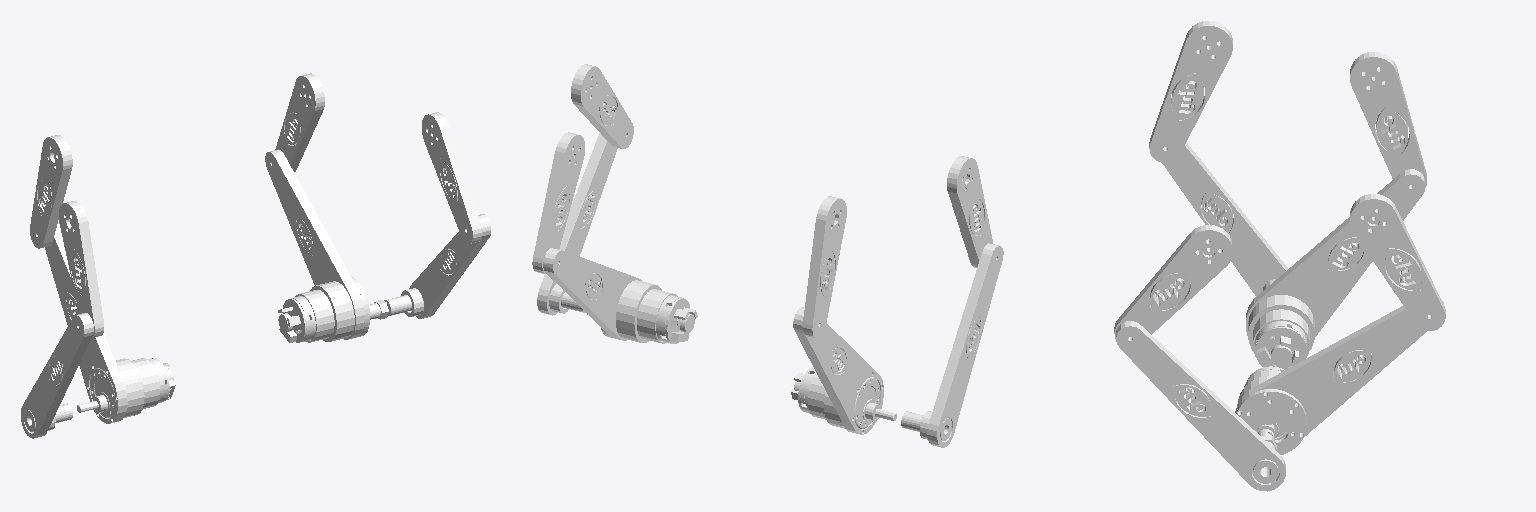
URDF robot description (all1):
<?xml version="1.0" encoding="utf-8"?>
<!-- This URDF was automatically created by SolidWorks to URDF Exporter! Originally created by Stephen Brawner (brawner@gmail.com) 
     Commit Version: 1.6.0-4-g7f85cfe  Build Version: 1.6.7995.38578
     For more information, please see http://wiki.ros.org/sw_urdf_exporter -->
<robot
  name="all1">
  <link
    name="base">
    <inertial>
      <origin
        xyz="-0.0764886966078708 -0.0455032449425661 0.0298113445623209"
        rpy="0 0 0" />
      <mass
        value="1.2267529732857" />
      <inertia
        ixx="0.00222432659479672"
        ixy="7.28354013929661E-06"
        ixz="1.46419626981074E-06"
        iyy="0.00342353739853937"
        iyz="2.34946049676221E-05"
        izz="0.00505018652038384" />
    </inertial>
    <visual>
      <origin
        xyz="0 0 0"
        rpy="0 0 0" />
      <geometry>
        <mesh
          filename="../meshes/base.STL" />
      </geometry>
      <material
        name="">
        <color
          rgba="0.8 0.8 0.8 1" />
      </material>
    </visual>
    <collision>
      <origin
        xyz="0 0 0"
        rpy="0 0 0" />
      <geometry>
        <mesh
          filename="../meshes/base.STL" />
      </geometry>
    </collision>
  </link>
  <link
    name="RightBack_link">
    <inertial>
      <origin
        xyz="0.00523671302162132 -0.00718558890644735 -0.0773768709244141"
        rpy="0 0 0" />
      <mass
        value="0.0440115405041705" />
      <inertia
        ixx="5.59990223771643E-05"
        ixy="3.4110385047923E-07"
        ixz="-4.52388039456716E-07"
        iyy="3.12201742719203E-05"
        iyz="1.43967108895873E-05"
        izz="2.59802786532203E-05" />
    </inertial>
    <visual>
      <origin
        xyz="0 0 0"
        rpy="0 0 0" />
      <geometry>
        <mesh
          filename="../meshes/RightBack_link.STL" />
      </geometry>
      <material
        name="">
        <color
          rgba="1 1 1 1" />
      </material>
    </visual>
    <collision>
      <origin
        xyz="0 0 0"
        rpy="0 0 0" />
      <geometry>
        <mesh
          filename="../meshes/RightBack_link.STL" />
      </geometry>
    </collision>
  </link>
  <joint
    name="RightBack_joint"
    type="revolute">
    <origin
      xyz="0.0688999999999906 -0.0806780584041777 0.0329999999999921"
      rpy="0 0 0" />
    <parent
      link="base" />
    <child
      link="RightBack_link" />
    <axis
      xyz="-1 0 0" />
    <limit
      lower="-3.14"
      upper="3.14"
      effort="100"
      velocity="1" />
  </joint>
  <link
    name="RightFront_link">
    <inertial>
      <origin
        xyz="-0.0158846396710652 -0.038678326798839 -0.113706375052538"
        rpy="0 0 0" />
      <mass
        value="0.104712553816365" />
      <inertia
        ixx="8.54971785570935E-05"
        ixy="-3.62925723688322E-06"
        ixz="-2.54346309155512E-06"
        iyy="4.97870154838629E-05"
        iyz="-2.2099480696532E-05"
        izz="5.7864789265181E-05" />
    </inertial>
    <visual>
      <origin
        xyz="0 0 0"
        rpy="0 0 0" />
      <geometry>
        <mesh
          filename="../meshes/RightFront_link.STL" />
      </geometry>
      <material
        name="">
        <color
          rgba="1 1 1 1" />
      </material>
    </visual>
    <collision>
      <origin
        xyz="0 0 0"
        rpy="0 0 0" />
      <geometry>
        <mesh
          filename="../meshes/RightFront_link.STL" />
      </geometry>
    </collision>
  </link>
  <joint
    name="RightFront_joint"
    type="revolute">
    <origin
      xyz="0.0253999999999908 0.0224684550366046 0.0329999999999916"
      rpy="0 0 0" />
    <parent
      link="base" />
    <child
      link="RightFront_link" />
    <axis
      xyz="1 0 0" />
    <limit
      lower="-3.14"
      upper="3.14"
      effort="100"
      velocity="1" />
  </joint>
  <link
    name="RightWheel_link">
    <inertial>
      <origin
        xyz="0.000940071320065794 4.74311855361287E-07 -2.86421212869481E-06"
        rpy="0 0 0" />
      <mass
        value="0.0269928545535181" />
      <inertia
        ixx="2.01971038426994E-05"
        ixy="-3.58826201707999E-10"
        ixz="4.89650768445249E-10"
        iyy="1.19536318518432E-05"
        iyz="-5.23236893151677E-09"
        izz="1.19559631856391E-05" />
    </inertial>
    <visual>
      <origin
        xyz="0 0 0"
        rpy="0 0 0" />
      <geometry>
        <mesh
          filename="../meshes/RightWheel_link.STL" />
      </geometry>
      <material
        name="">
        <color
          rgba="1 1 1 1" />
      </material>
    </visual>
    <collision>
      <origin xyz="0 0 0" rpy="0 1.5707963268 0" />
      <geometry>
        <cylinder radius="0.0336" length="0.0269" />
      </geometry>
    </collision>
  </link>
  <joint
    name="RightWheel_joint"
    type="continuous">
    <origin
      xyz="0.0219999999998894 -0.0675822004083557 -0.148450583571539"
      rpy="0 0 0" />
    <parent
      link="RightFront_link" />
    <child
      link="RightWheel_link" />
    <axis
      xyz="-1 0 0" />
  </joint>
  <link
    name="LeftBack_link">
    <inertial>
      <origin
        xyz="-0.00123668738505467 0.0046448664727278 -0.0916207842646139"
        rpy="0 0 0" />
      <mass
        value="0.0440117138035046" />
      <inertia
        ixx="5.59990367220439E-05"
        ixy="-2.93262108706337E-07"
        ixz="5.13181105571151E-07"
        iyy="4.01599109500157E-05"
        iyz="1.4894237884402E-05"
        izz="1.70405573176971E-05" />
    </inertial>
    <visual>
      <origin
        xyz="0 0 0"
        rpy="0 0 0" />
      <geometry>
        <mesh
          filename="../meshes/LeftBack_link.STL" />
      </geometry>
      <material
        name="">
        <color
          rgba="1 1 1 1" />
      </material>
    </visual>
    <collision>
      <origin
        xyz="0 0 0"
        rpy="0 0 0" />
      <geometry>
        <mesh
          filename="../meshes/LeftBack_link.STL" />
      </geometry>
    </collision>
  </link>
  <joint
    name="LeftBack_joint"
    type="revolute">
    <origin
      xyz="-0.234399999999861 -0.0806780583958328 0.0329999999987831"
      rpy="0 0 0" />
    <parent
      link="base" />
    <child
      link="LeftBack_link" />
    <axis
      xyz="1 0 0" />
    <limit
      lower="-3.14"
      upper="3.14"
      effort="100"
      velocity="1" />
  </joint>
  <link
    name="LeftFront_link">
    <inertial>
      <origin
        xyz="0.0170993940832307 -0.0346920638486161 -0.129180030546295"
        rpy="0 0 0" />
      <mass
        value="0.0976416673904125" />
      <inertia
        ixx="8.40173880683324E-05"
        ixy="2.96428156499934E-06"
        ixz="3.24239924131902E-06"
        iyy="6.20702835195466E-05"
        iyz="-2.40753983997509E-05"
        izz="4.39957164630139E-05" />
    </inertial>
    <visual>
      <origin
        xyz="0 0 0"
        rpy="0 0 0" />
      <geometry>
        <mesh
          filename="../meshes/LeftFront_link.STL" />
      </geometry>
      <material
        name="">
        <color
          rgba="1 1 1 1" />
      </material>
    </visual>
    <collision>
      <origin
        xyz="0 0 0"
        rpy="0 0 0" />
      <geometry>
        <mesh
          filename="../meshes/LeftFront_link.STL" />
      </geometry>
    </collision>
  </link>
  <joint
    name="LeftFront_joint"
    type="revolute">
    <origin
      xyz="-0.18690000000003 0.0224684550365353 0.0330000000000169"
      rpy="0 0 0" />
    <parent
      link="base" />
    <child
      link="LeftFront_link" />
    <axis
      xyz="-1 0 0" />
    <limit
      lower="-3.14"
      upper="3.14"
      effort="100"
      velocity="1" />
  </joint>
  <link
    name="LeftWheel_link">
    <inertial>
      <origin
        xyz="-0.000940401584509587 1.46717976767796E-07 -2.30621225616456E-07"
        rpy="0 0 0" />
      <mass
        value="0.0269938078595739" />
      <inertia
        ixx="2.01916587504425E-05"
        ixy="4.84496965359208E-11"
        ixz="-4.65186017021388E-11"
        iyy="1.19533625920466E-05"
        iyz="5.0776577288399E-10"
        izz="1.19509661553477E-05" />
    </inertial>
    <visual>
      <origin
        xyz="0 0 0"
        rpy="0 0 0" />
      <geometry>
        <mesh
          filename="../meshes/LeftWheel_link.STL" />
      </geometry>
      <material
        name="">
        <color
          rgba="1 1 1 1" />
      </material>
    </visual>
    <collision>
      <origin xyz="0 0 0" rpy="0 1.5707963268 0" />
      <geometry>
        <cylinder radius="0.0336" length="0.0269" />
      </geometry>
    </collision>
  </link>
  <joint
    name="LeftWheel_joint"
    type="continuous">
    <origin
      xyz="-0.0220000000000065 -0.059941816446237 -0.173055927046629"
      rpy="0 0 0" />
    <parent
      link="LeftFront_link" />
    <child
      link="LeftWheel_link" />
    <axis
      xyz="1 0 0" />
  </joint>
</robot>

--- Render facts (derived) ---
The picture shows the robot from 3 angles, left to right: view 1: azimuth 30°, elevation 25°; view 2: azimuth 150°, elevation 25°; view 3: azimuth 270°, elevation 25°; orthographic projection.
Model all1 with 7 links and 6 joints (4 revolute, 2 continuous), rooted at base, posed every joint at zero.
Links seen in each view (by area): view 1: RightFront_link, LeftFront_link, LeftBack_link, RightBack_link; view 2: RightFront_link, LeftFront_link, LeftBack_link, RightBack_link; view 3: RightFront_link, LeftFront_link, RightBack_link, LeftBack_link.
Link boxes in pixels (x1,y1,x2,y2): RightFront_link: (265, 73, 388, 342); LeftFront_link: (30, 135, 175, 423); LeftBack_link: (21, 201, 103, 438); RightBack_link: (384, 112, 490, 318); RightFront_link: (532, 132, 697, 343); LeftFront_link: (791, 196, 896, 434); LeftBack_link: (901, 156, 1003, 447); RightBack_link: (537, 64, 633, 315); RightFront_link: (1235, 194, 1445, 454); LeftFront_link: (1246, 52, 1426, 369); RightBack_link: (1114, 225, 1285, 491); LeftBack_link: (1149, 21, 1287, 296).
Bounding box of the posed robot: 0.3263 × 0.2072 × 0.2038 m (x, y, z).
4 mesh visuals loaded from 7 distinct referenced files (4 binary STL); not drawn: 3 (reference not matched to a file when rendering).
